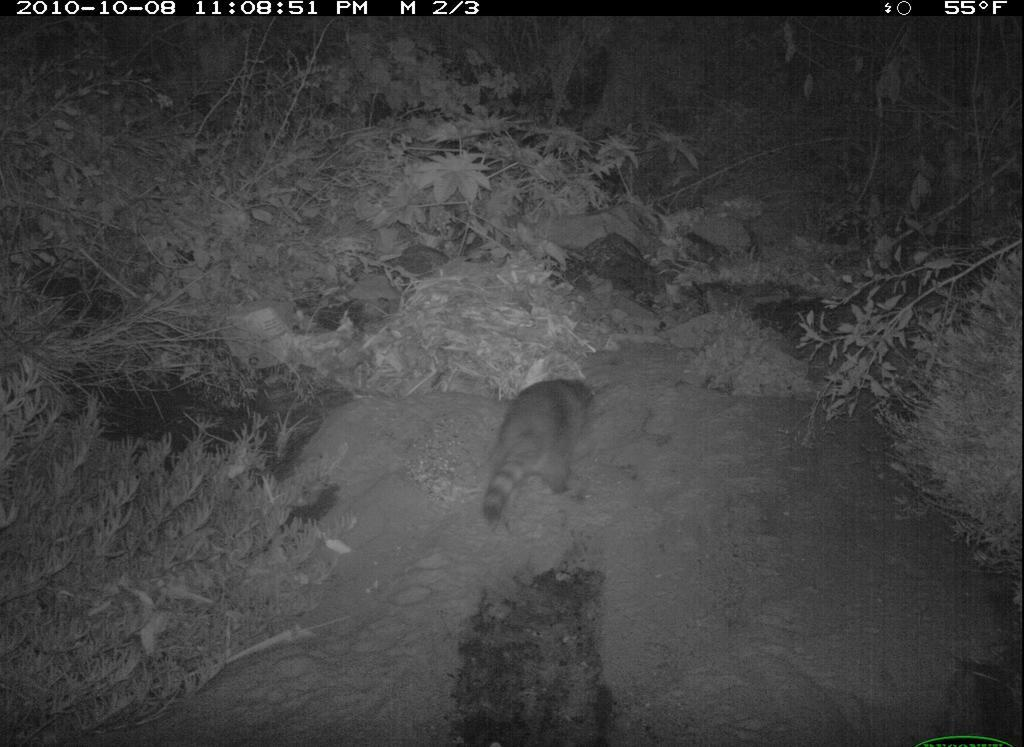raccoon: (475, 383, 606, 534)
